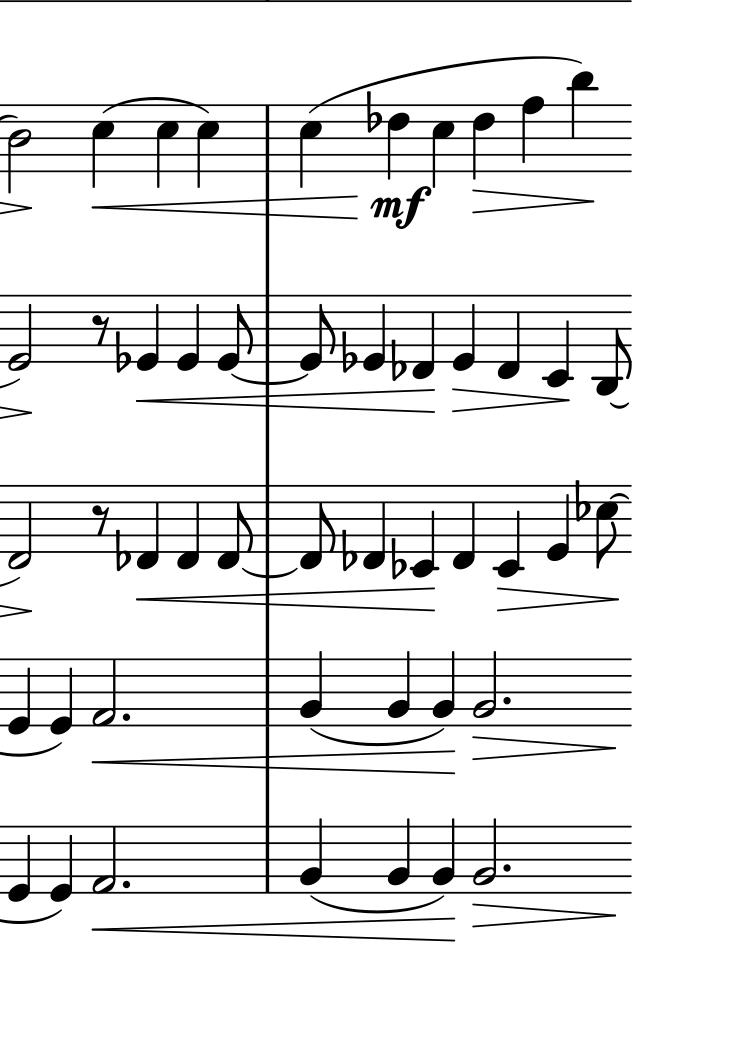2_-1: (9, 483, 34, 571)
2_0: (7, 295, 34, 371)
2_1: (87, 657, 119, 727), (92, 823, 119, 895)
2_2: (471, 816, 499, 896), (472, 646, 499, 728)
2_6: (6, 102, 36, 192)
4_-1: (407, 292, 437, 382), (360, 482, 388, 571), (451, 483, 478, 569), (175, 484, 201, 570), (137, 483, 161, 571), (498, 292, 522, 379)
4_-2: (494, 483, 522, 577), (544, 293, 571, 387), (410, 484, 437, 578)
4_0: (540, 480, 572, 561), (134, 291, 163, 373), (450, 292, 479, 372), (361, 293, 389, 375), (174, 293, 201, 375), (4, 824, 32, 902), (7, 658, 34, 737), (50, 654, 75, 738), (49, 824, 74, 902)
4_11: (569, 70, 596, 174)
4_2: (298, 815, 328, 894), (384, 647, 413, 727), (384, 814, 412, 895), (431, 647, 459, 727), (298, 650, 326, 728), (431, 816, 457, 896)
4_5: (194, 101, 222, 189), (90, 103, 117, 192), (153, 102, 179, 191), (428, 102, 454, 189), (298, 103, 324, 189)
4_6: (385, 101, 413, 185), (472, 101, 494, 185)
4_8: (518, 93, 548, 175)
8_-1: (294, 482, 338, 571), (217, 483, 255, 570)
8_-3: (593, 293, 633, 397)
8_0: (299, 292, 337, 374), (219, 294, 254, 376)
8_5: (595, 483, 619, 569)
Crescendo_hairpin: (93, 748, 455, 777), (93, 917, 455, 943), (135, 585, 436, 613), (136, 388, 437, 413), (89, 195, 358, 222)
Diminuendo_hairpin: (471, 736, 616, 762), (472, 902, 617, 927), (497, 586, 619, 611), (452, 388, 569, 412), (472, 189, 593, 212)
Flat: (111, 329, 131, 376), (339, 329, 358, 378), (363, 89, 382, 136), (389, 336, 407, 383), (340, 526, 358, 572), (113, 528, 130, 575), (388, 535, 406, 578), (574, 481, 588, 524)
Rests8: (89, 501, 110, 537), (92, 309, 110, 347)
Single_barline: (257, 826, 285, 894), (256, 485, 284, 552), (255, 659, 282, 726), (257, 295, 282, 363), (258, 104, 282, 173)
Slur: (309, 56, 585, 114), (308, 897, 444, 913), (310, 729, 444, 745), (102, 96, 212, 114), (229, 374, 309, 387), (239, 570, 294, 579)
dot: (500, 858, 520, 878), (118, 874, 136, 895), (500, 690, 516, 712), (119, 710, 133, 724)
mf: (369, 187, 438, 230)
